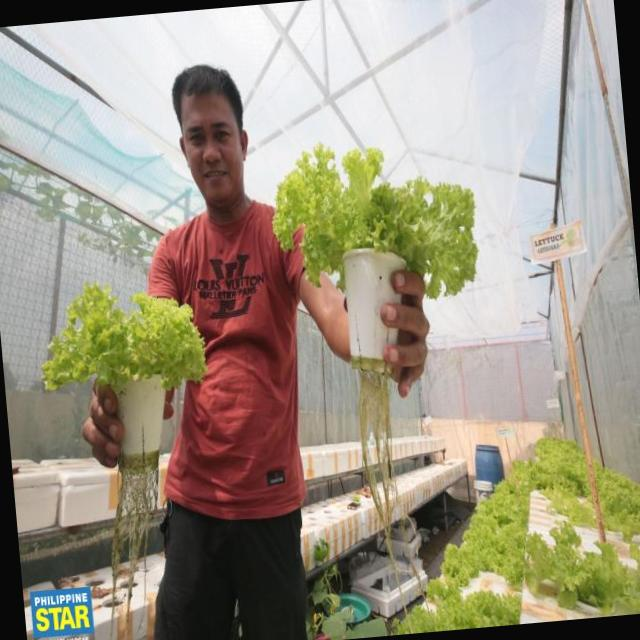Lettuce-Ready-to-Harvest: (263, 128, 487, 313), (30, 272, 211, 394)
